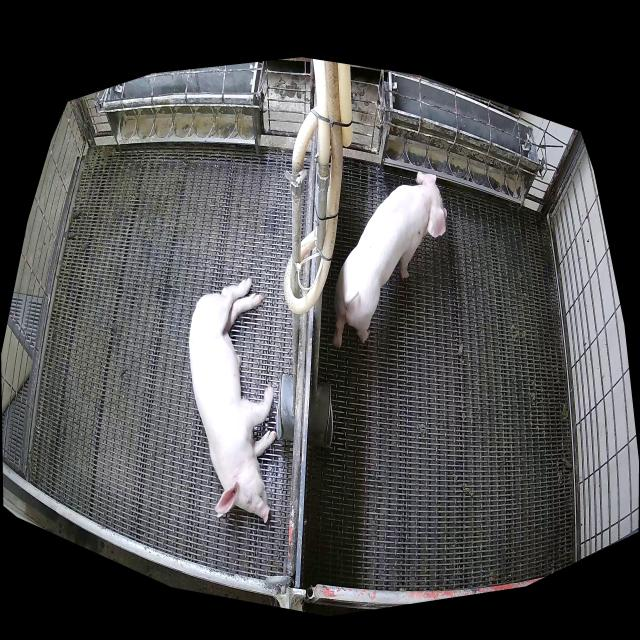pig: (190, 275, 275, 519), (334, 172, 446, 343)
